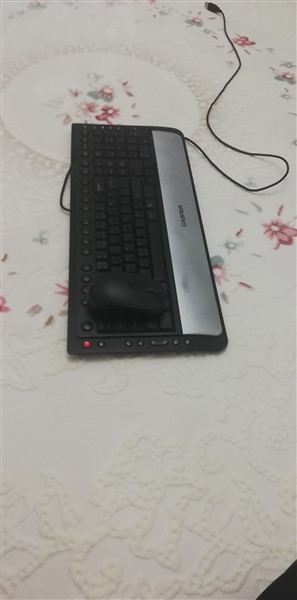klavye: (65, 118, 229, 363)
mouse: (84, 270, 173, 323)
